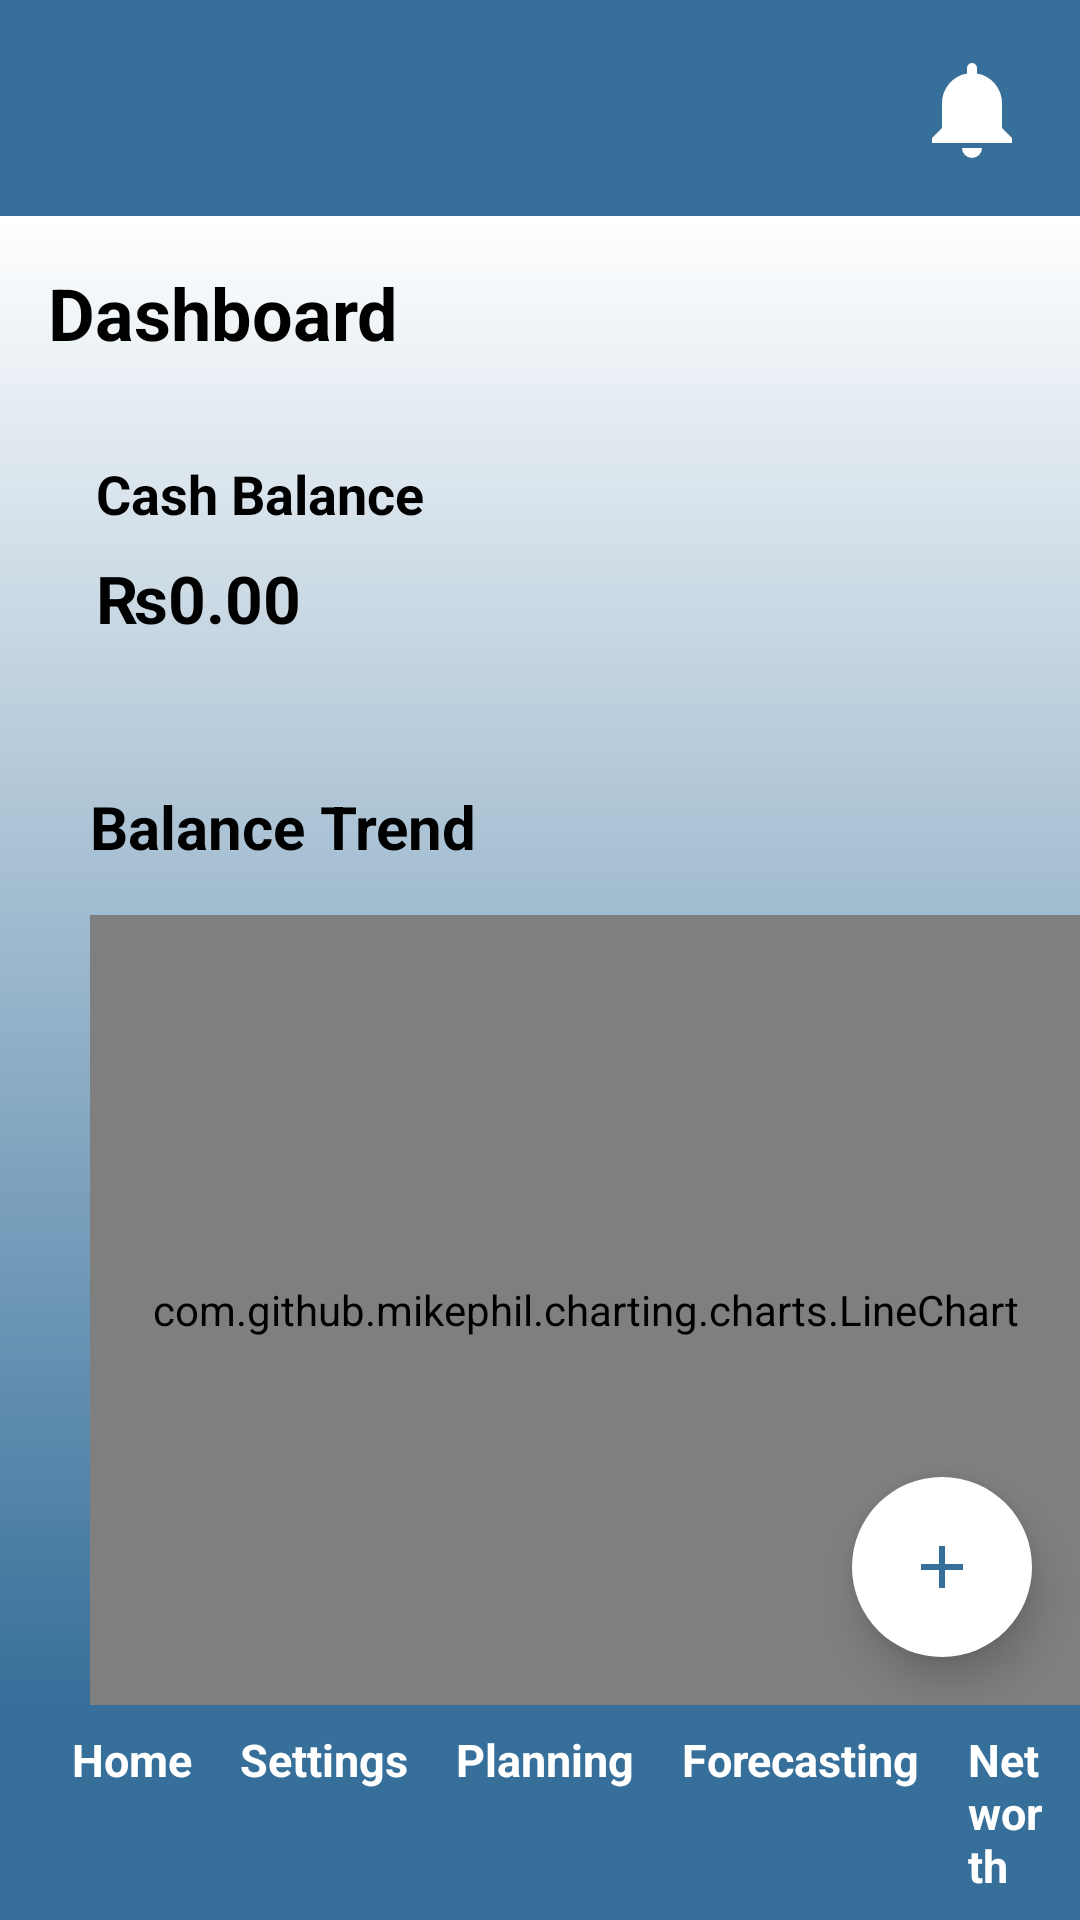

Where icons sit on this 1080×1920 app screen, as (x1, y1, x2, y2):
Add transaction button: (852, 1477, 1032, 1657)
Notification button: (932, 63, 1012, 158)
